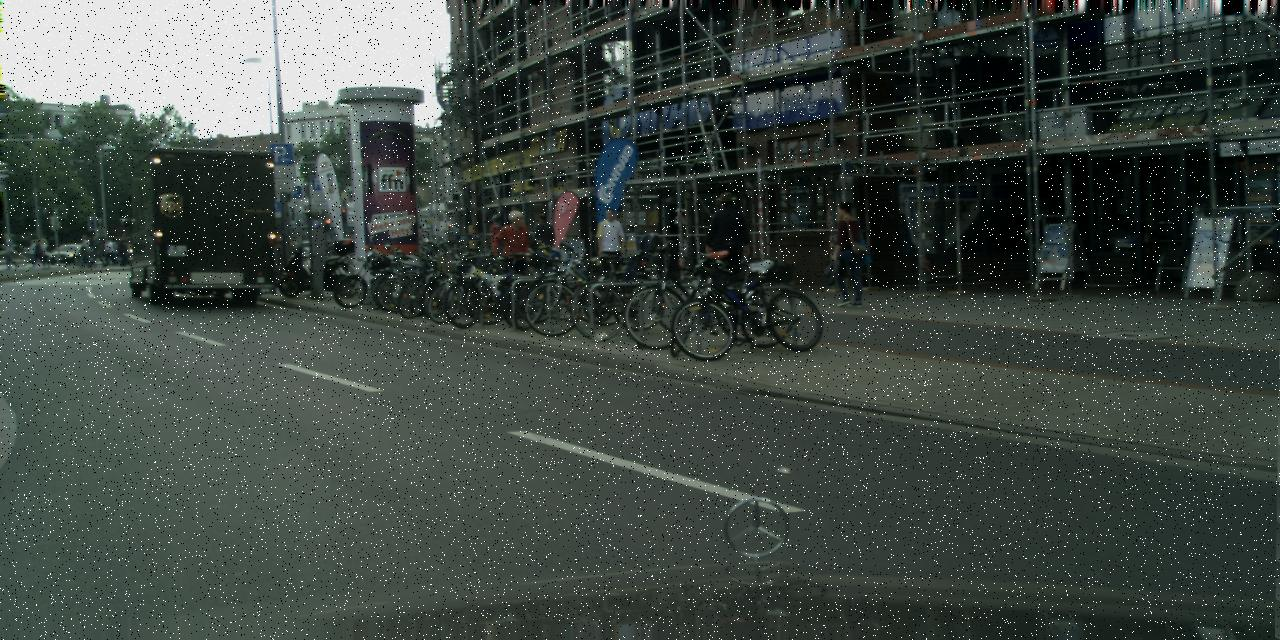ped: (706, 192, 750, 298), (825, 201, 867, 306), (496, 210, 532, 301), (593, 208, 627, 292), (530, 213, 555, 276), (485, 214, 507, 270), (32, 238, 51, 270), (3, 235, 17, 269), (78, 235, 91, 267), (90, 235, 102, 266), (102, 237, 114, 265), (118, 237, 128, 266), (29, 239, 39, 265)
